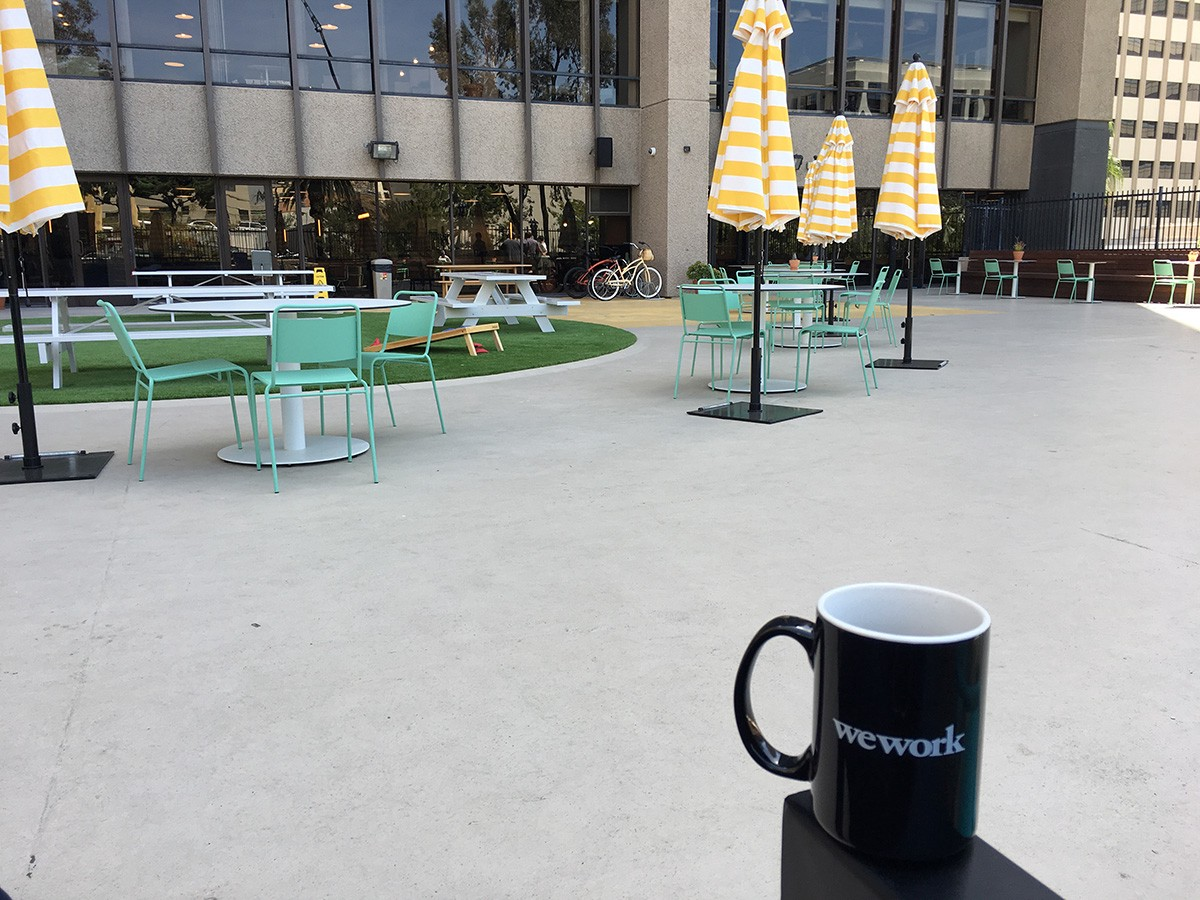wework: (830, 711, 970, 760)
